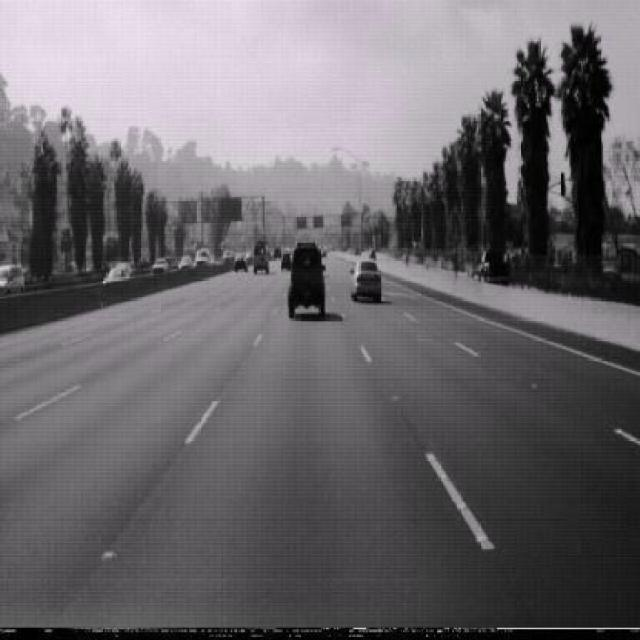laneEnds: (445, 203, 466, 246)
